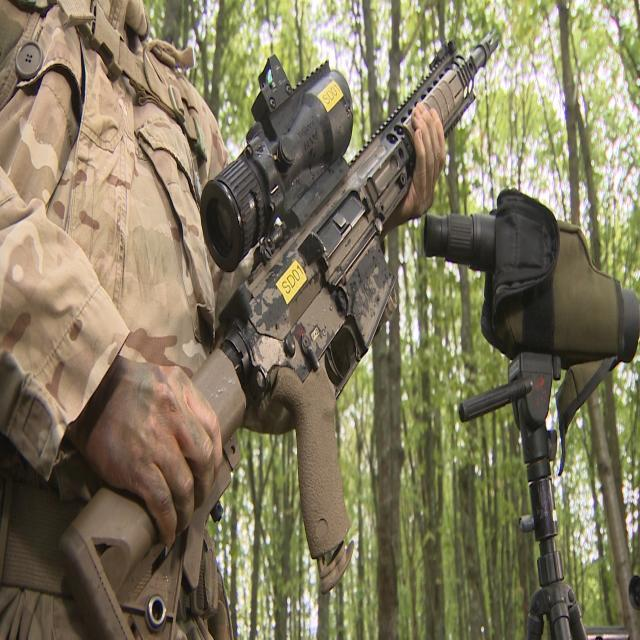rifle: (64, 20, 511, 634)
